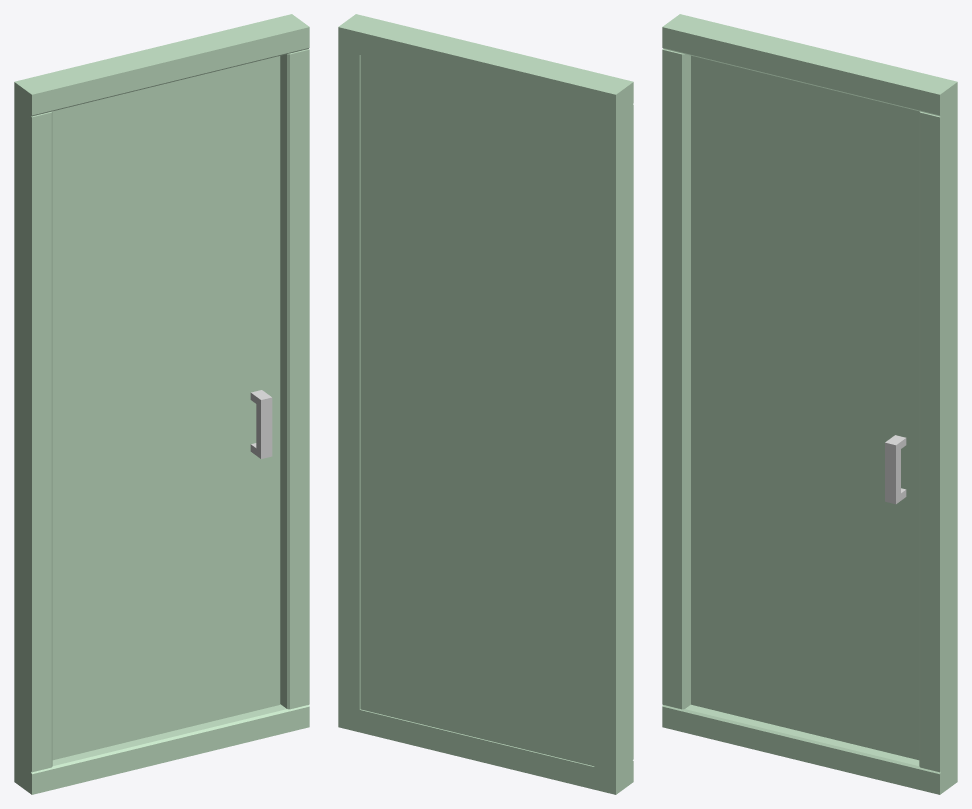
File: mod_door_single.glb
3 views of the same model, side by side, from view 1: azimuth 30°, elevation 25°; view 2: azimuth 150°, elevation 25°; view 3: azimuth 330°, elevation 25° (orthographic).
Parts seen in each view (by area): view 1: leaf_main, frame_left, frame_right, frame_top, treshold, Handle; view 2: leaf_main, frame_left, frame_right, frame_top, treshold; view 3: leaf_main, frame_right, frame_left, frame_top, treshold, Handle.
Boxes of the visible parts, x1,y1,x2,y2 form: leaf_main: [52, 56, 280, 760]; frame_left: [14, 105, 52, 772]; frame_right: [280, 49, 309, 709]; frame_top: [14, 14, 309, 116]; treshold: [14, 704, 309, 794]; Handle: [250, 390, 272, 458]; leaf_main: [360, 55, 594, 766]; frame_left: [594, 104, 633, 772]; frame_right: [338, 49, 360, 709]; frame_top: [338, 14, 633, 117]; treshold: [338, 704, 633, 794]; leaf_main: [691, 55, 919, 760]; frame_right: [919, 105, 957, 772]; frame_left: [662, 49, 690, 709]; frame_top: [662, 14, 957, 116]; treshold: [662, 704, 957, 794]; Handle: [885, 435, 906, 504].
Size of the model in its own units: 0.9 by 2.17 by 0.1179.
